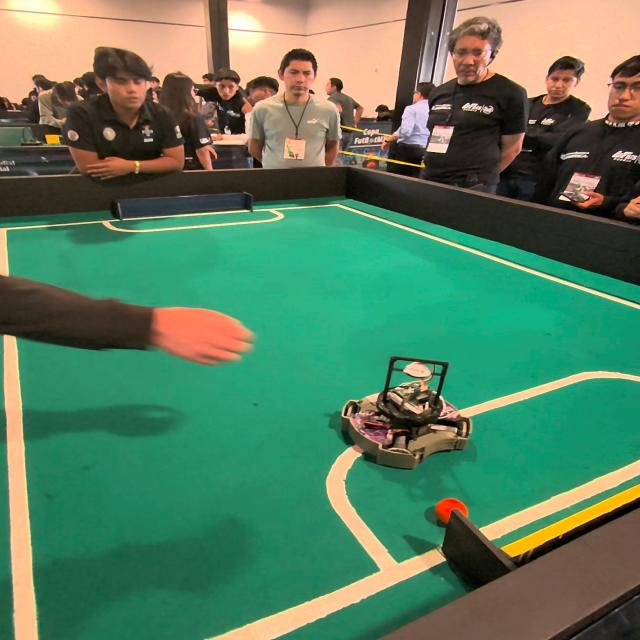Robot: (357, 351, 474, 469)
pelota: (428, 490, 478, 525)
